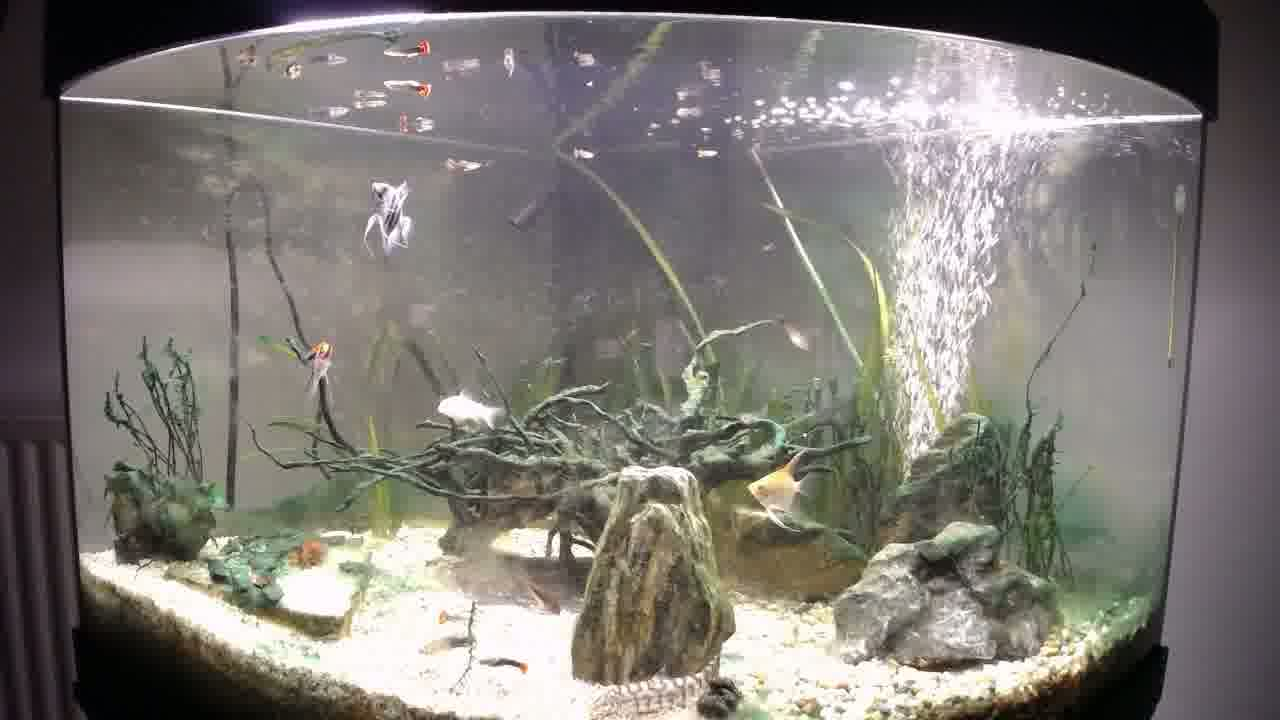Ancistrus: (283, 534, 336, 574)
Botia_Almorhae: (584, 664, 722, 719)
Corydoras_Albinos: (434, 388, 507, 432)
Corydoras_Panda: (515, 570, 567, 623)
G_Matriarche: (417, 631, 476, 661)
Pterophyllum_Scalare_BB: (359, 178, 418, 258)
Pterophyllum_Scalare_Y: (745, 447, 820, 533)
Pterophyllum_Scalare_YWB: (301, 333, 337, 397)
